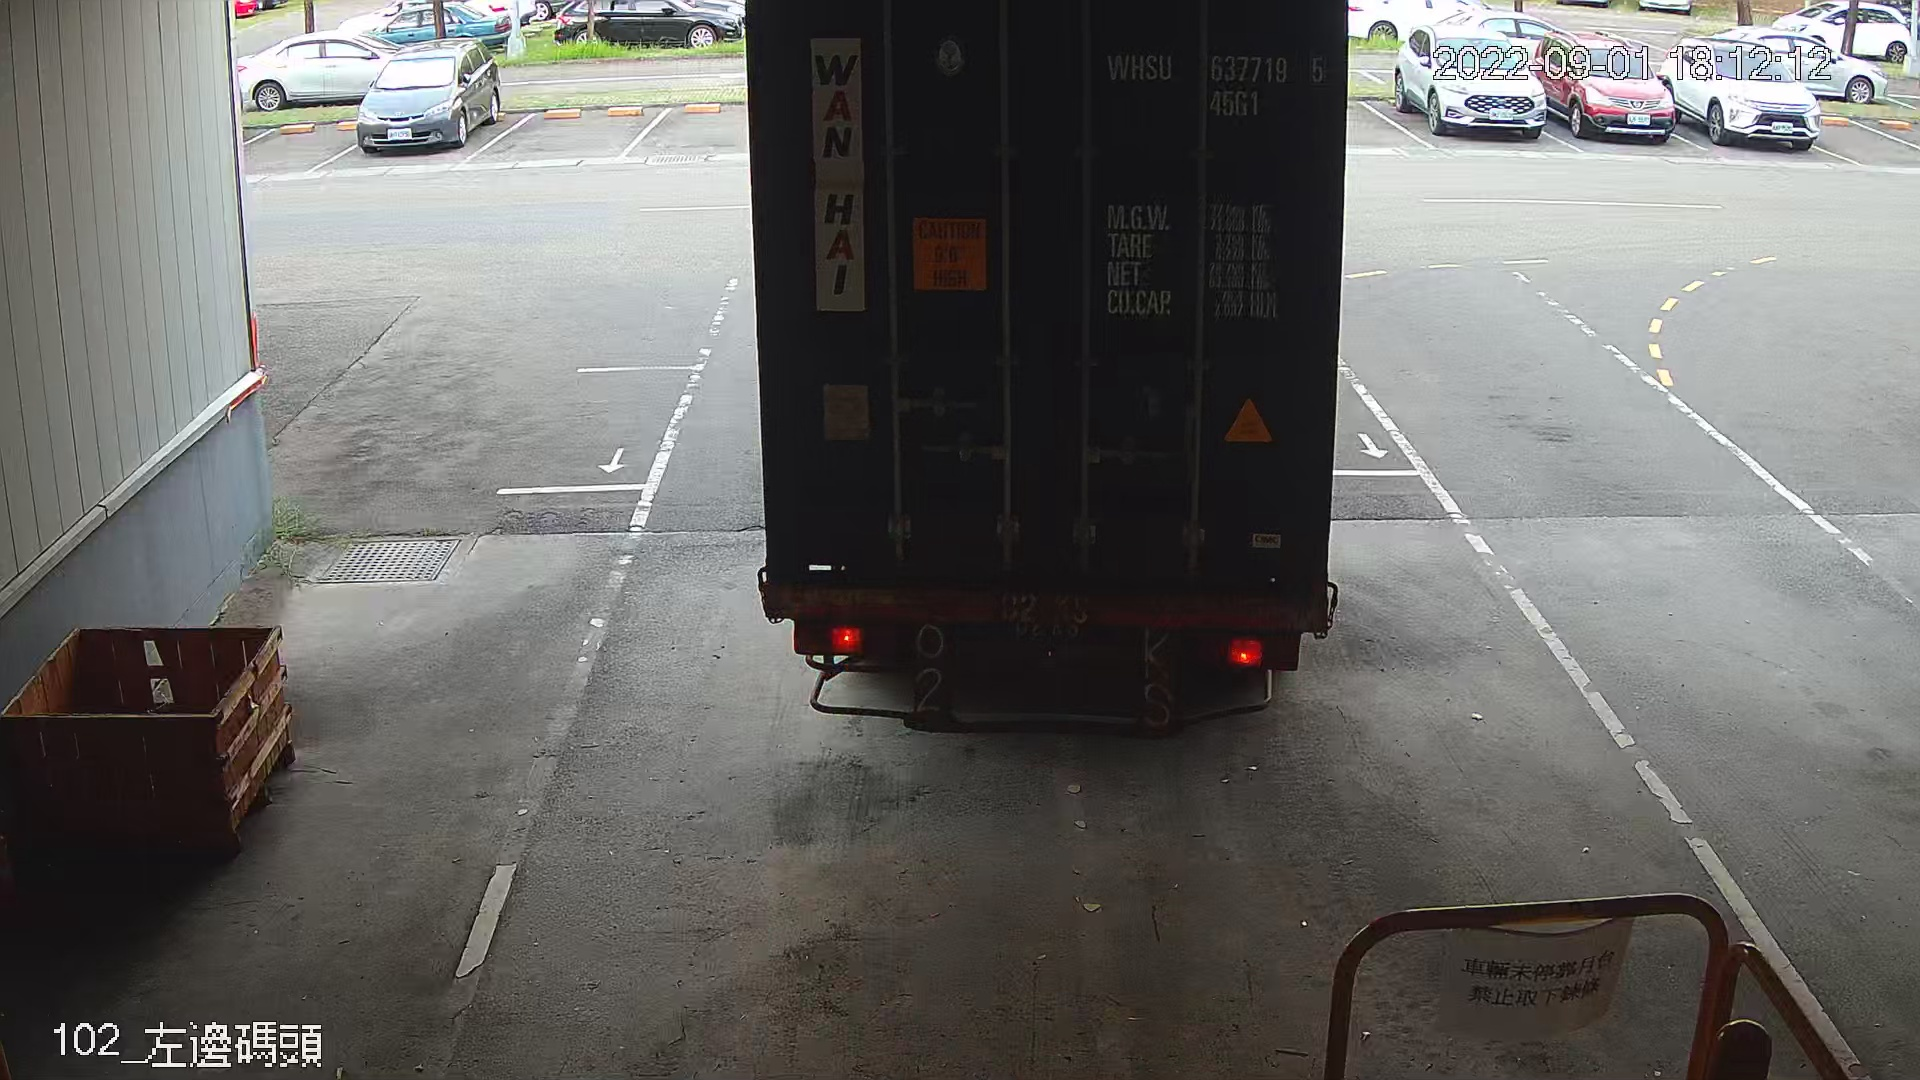container: (1095, 36, 1335, 129)
